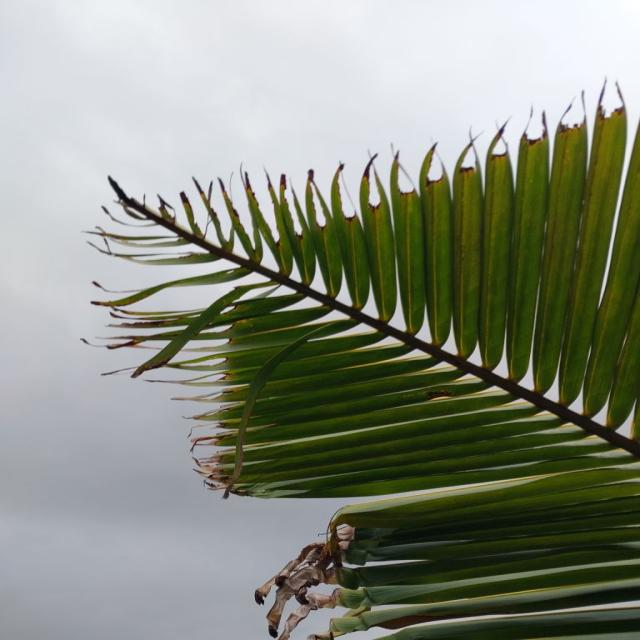leaf rot: (65, 87, 627, 640)
